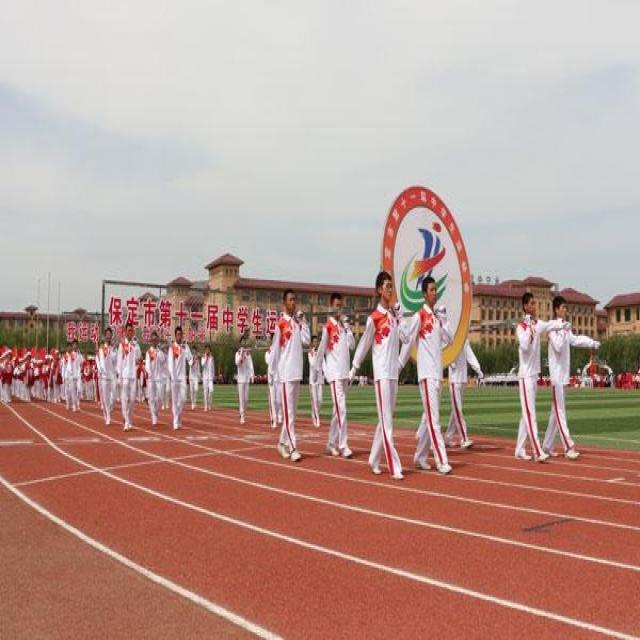non-fight: (351, 270, 422, 480), (510, 294, 577, 464), (542, 294, 599, 456), (266, 290, 309, 461), (315, 284, 353, 462), (112, 323, 143, 432), (162, 324, 192, 431), (234, 331, 255, 426)
